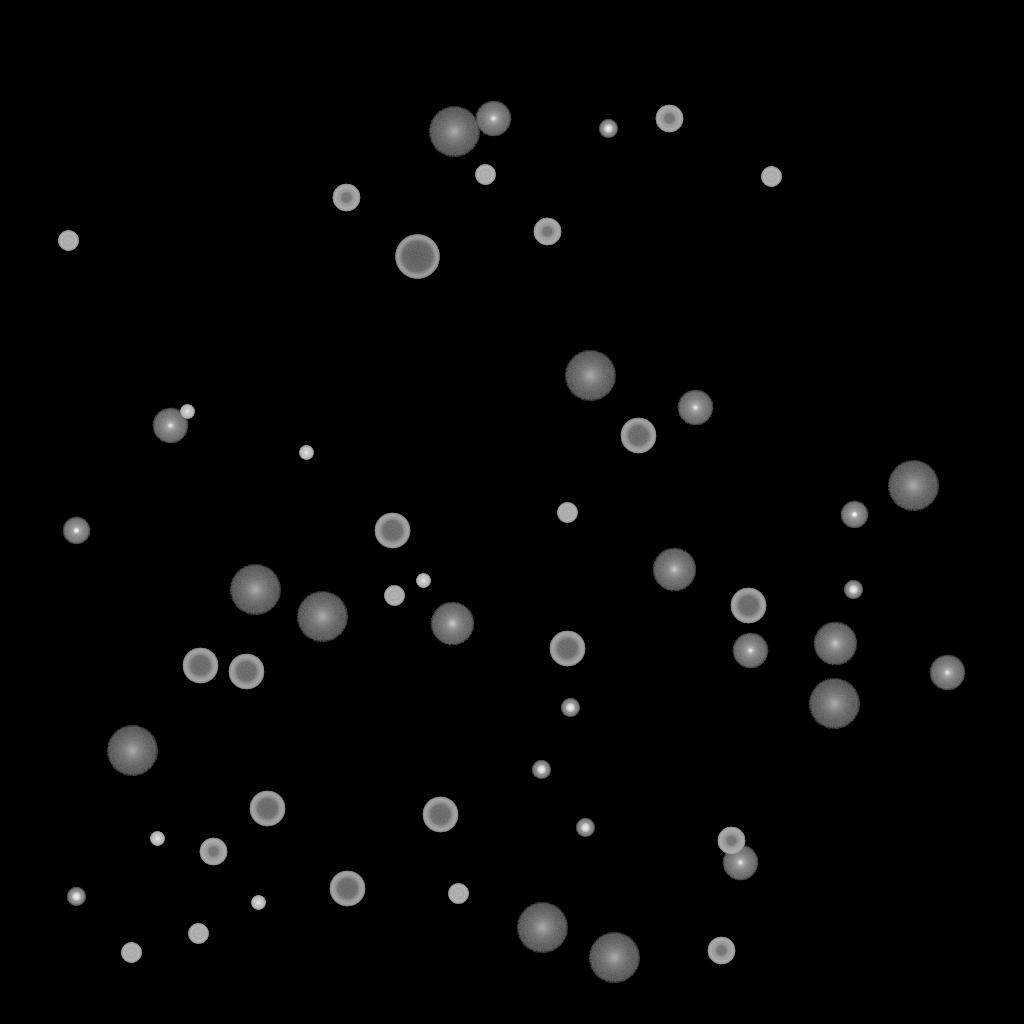depth:-10: (840, 501, 868, 529), (62, 517, 90, 545)
depth:-20: (576, 819, 594, 837), (599, 120, 617, 138), (561, 699, 579, 717), (67, 888, 85, 906), (532, 761, 550, 779), (844, 581, 862, 599)
depth:-30: (150, 832, 164, 846), (416, 574, 430, 588), (299, 446, 313, 460), (251, 896, 265, 910), (180, 405, 194, 419)
depth:-40: (58, 231, 78, 251), (761, 167, 781, 187), (475, 165, 495, 185), (557, 503, 577, 523), (384, 586, 404, 606), (448, 884, 468, 904), (121, 943, 141, 963), (188, 924, 208, 944)
depth:-50: (717, 827, 745, 855), (533, 218, 561, 246), (707, 937, 735, 965), (655, 105, 683, 133), (199, 838, 227, 866), (332, 184, 360, 212)
depth:-60: (329, 871, 365, 907), (249, 791, 285, 827), (730, 588, 766, 624), (549, 631, 585, 667), (620, 418, 656, 454), (374, 513, 410, 549), (228, 654, 264, 690), (182, 648, 218, 684), (422, 797, 458, 833)
depth:-70: (395, 235, 439, 279)
depth:0: (929, 655, 965, 691), (152, 408, 188, 444), (677, 390, 713, 426), (732, 633, 768, 669), (722, 845, 758, 881), (475, 101, 511, 137)
depth:10: (813, 622, 857, 666), (430, 602, 474, 646), (652, 548, 696, 592)
depth:20: (588, 933, 640, 983), (229, 565, 281, 615), (106, 726, 158, 776), (516, 903, 568, 953), (887, 461, 939, 511), (428, 107, 480, 157), (564, 351, 616, 401), (296, 592, 348, 642), (808, 679, 860, 729)
